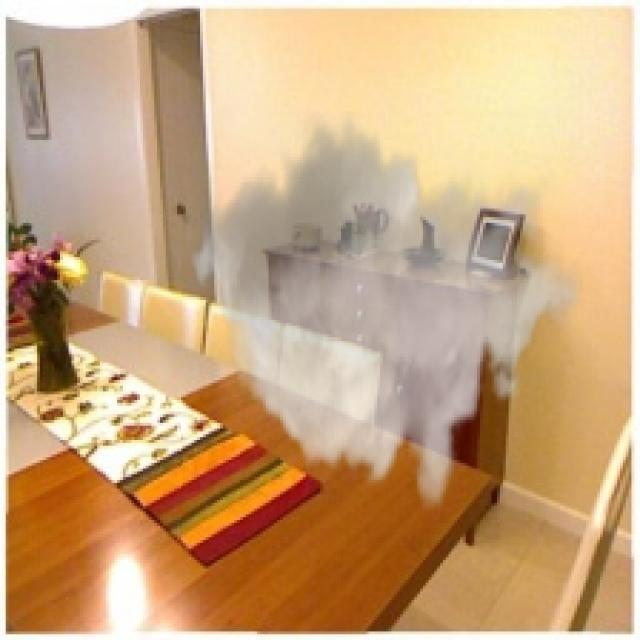Smoke: (188, 112, 583, 514)
